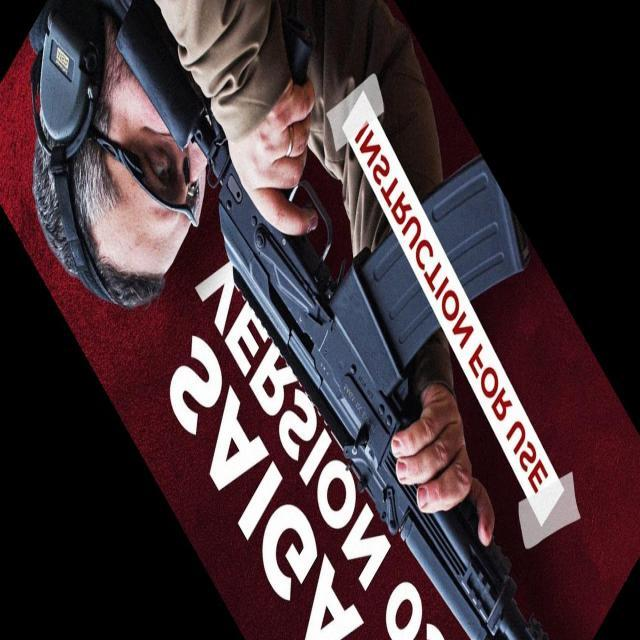weapon: (115, 1, 548, 640)
